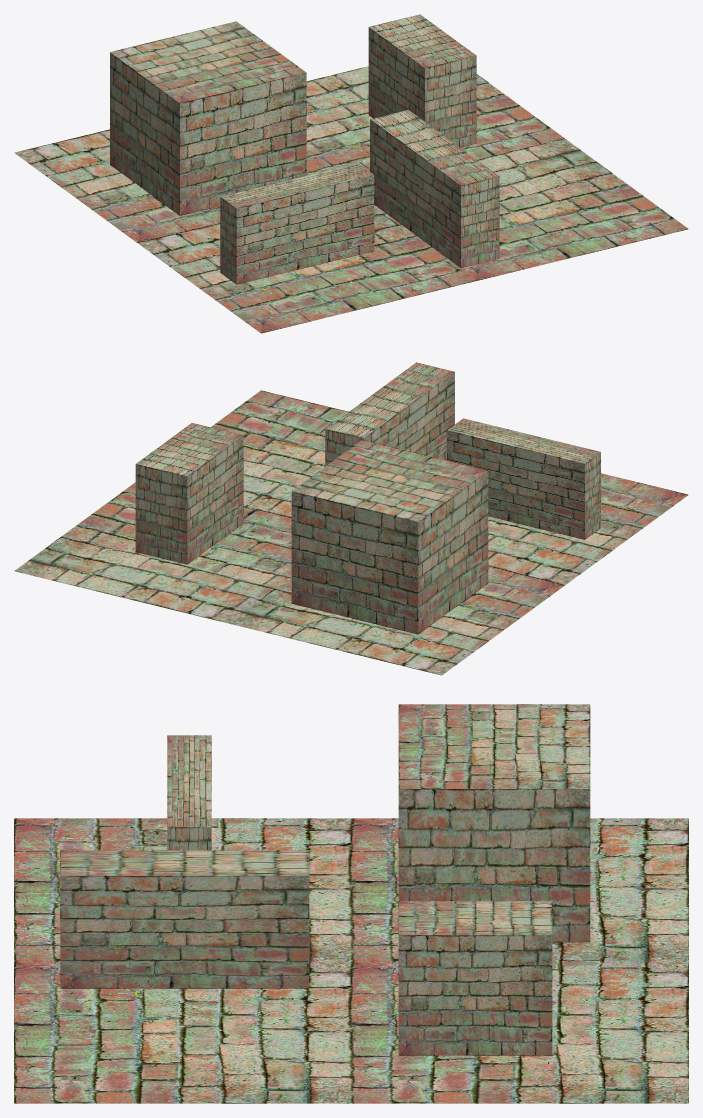
File: CityMap1.fbx
3 views of the same model, one above another, from view 1: azimuth 30°, elevation 25°; view 2: azimuth 150°, elevation 25°; view 3: azimuth 270°, elevation 25° (orthographic). The views are drawn at different scales.
Visible parts, largest first — view 1: Box001, Plane004, Plane002, Box003, Box004, Box002, Plane003, Plane001; view 2: Box001, Plane003, Plane001, Box002, Box004, Plane004, Plane002, Box003; view 3: Plane004, Box001, Box003, Plane003, Box002, Plane001, Plane002, Box004.
Boxes of the visible parts, box(x1,y1,x2,y2) form: Box001: box(110, 21, 306, 215); Plane004: box(374, 139, 688, 281); Plane002: box(138, 208, 474, 333); Box003: box(370, 109, 499, 267); Box004: box(220, 163, 374, 284); Box002: box(368, 14, 476, 147); Plane003: box(306, 66, 564, 171); Plane001: box(14, 129, 324, 242); Box001: box(291, 440, 488, 634); Plane003: box(14, 482, 291, 623); Plane001: box(228, 566, 564, 675); Box002: box(135, 423, 243, 564); Box004: box(447, 418, 600, 539); Plane004: box(211, 390, 446, 518); Plane002: box(488, 473, 688, 584); Box003: box(325, 362, 454, 466); Plane004: box(14, 961, 351, 1103); Box001: box(398, 704, 590, 942); Box003: box(60, 850, 309, 988); Plane003: box(351, 961, 688, 1103); Box002: box(398, 901, 552, 1055); Plane001: box(351, 818, 688, 960); Plane002: box(14, 818, 351, 960); Box004: box(167, 735, 211, 850).
Bounding box in the file's own units: 150 × 150 × 37.63.
1 material, 1 textured.
